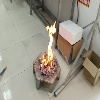fire: (41, 21, 56, 69)
